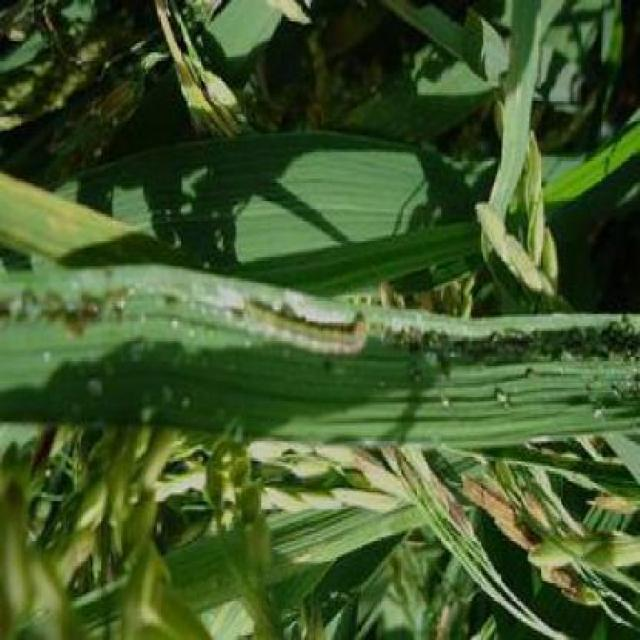leaf-folder: (226, 282, 382, 380)
